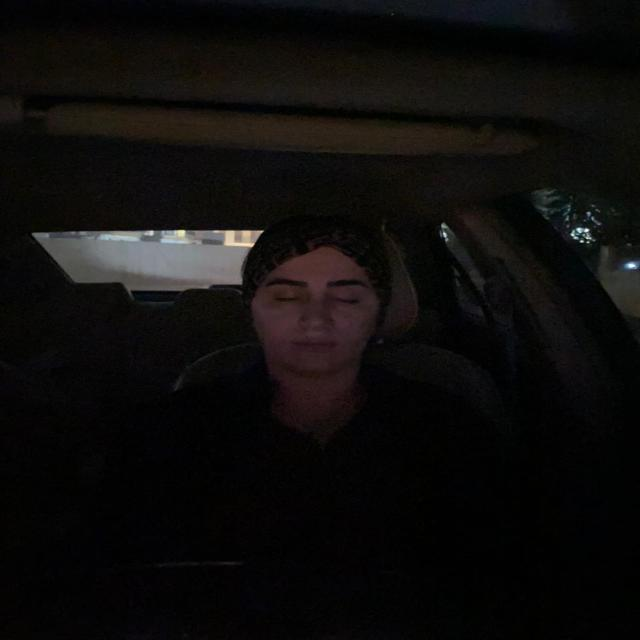drowsy: (242, 229, 399, 375)
